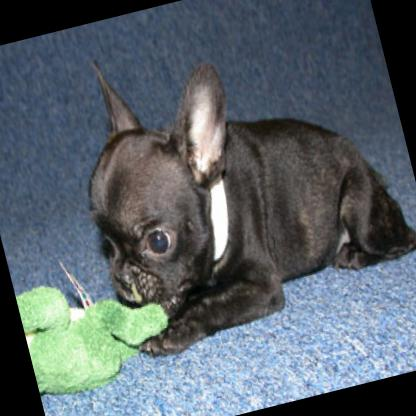French_bulldog: (47, 0, 416, 363)
